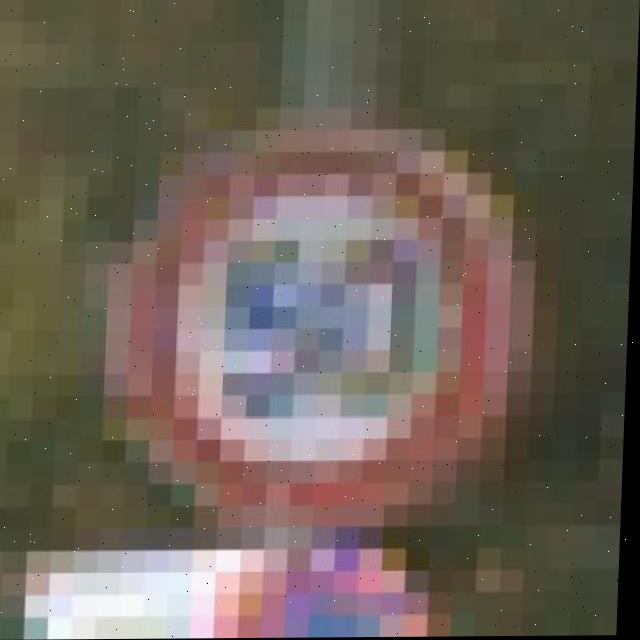Speed limit 50: (99, 118, 532, 511)
